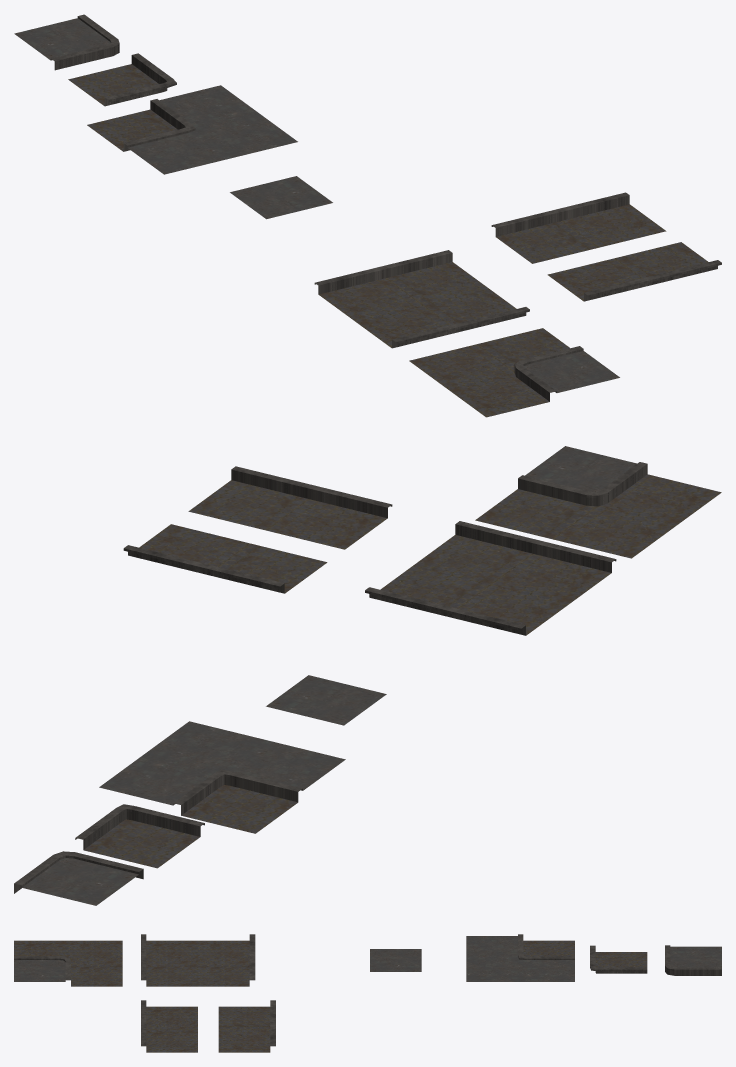
The model's file is Sidewalk Elements.fbx.
3 views of the same model, one above another, from view 1: azimuth 30°, elevation 25°; view 2: azimuth 150°, elevation 25°; view 3: azimuth 270°, elevation 25° (orthographic). The views are drawn at different scales.
Parts seen in each view (by area): view 1: Full_Road, Sidewalk_Corner, Road_Corner, Half_Road1, Half_Road, Sidewalk_Corner_WO_Road, Road_Corner_WO_SIdewalk, Sidewalk; view 2: Full_Road, Road_Corner, Sidewalk_Corner, Half_Road, Half_Road1, Road_Corner_WO_SIdewalk, Sidewalk_Corner_WO_Road, Sidewalk; view 3: Full_Road, Road_Corner, Sidewalk_Corner, Half_Road1, Half_Road, Sidewalk_Corner_WO_Road, Road_Corner_WO_SIdewalk, Sidewalk.
Part boxes in pixels (x1=…): Full_Road: x1=314, y1=250, x2=529, y2=348; Sidewalk_Corner: x1=87, y1=85, x2=297, y2=174; Road_Corner: x1=409, y1=328, x2=619, y2=417; Half_Road1: x1=491, y1=192, x2=666, y2=263; Half_Road: x1=547, y1=242, x2=721, y2=301; Sidewalk_Corner_WO_Road: x1=14, y1=14, x2=119, y2=70; Road_Corner_WO_SIdewalk: x1=68, y1=53, x2=176, y2=106; Sidewalk: x1=230, y1=176, x2=332, y2=219; Full_Road: x1=365, y1=521, x2=616, y2=635; Road_Corner: x1=475, y1=446, x2=721, y2=558; Sidewalk_Corner: x1=99, y1=721, x2=345, y2=833; Half_Road: x1=188, y1=466, x2=392, y2=549; Half_Road1: x1=123, y1=524, x2=327, y2=593; Road_Corner_WO_SIdewalk: x1=75, y1=804, x2=204, y2=868; Sidewalk_Corner_WO_Road: x1=14, y1=851, x2=143, y2=905; Sidewalk: x1=266, y1=675, x2=386, y2=725; Full_Road: x1=141, y1=934, x2=255, y2=986; Road_Corner: x1=14, y1=940, x2=122, y2=986; Sidewalk_Corner: x1=466, y1=934, x2=574, y2=981; Half_Road1: x1=218, y1=1000, x2=275, y2=1052; Half_Road: x1=141, y1=1000, x2=197, y2=1052; Sidewalk_Corner_WO_Road: x1=665, y1=945, x2=721, y2=975; Road_Corner_WO_SIdewalk: x1=590, y1=945, x2=647, y2=973; Sidewalk: x1=370, y1=949, x2=421, y2=971.
Size of the model in its own units: 4.86 by 0.1286 by 13.02.
Materials: 3 (3 with a texture image).
